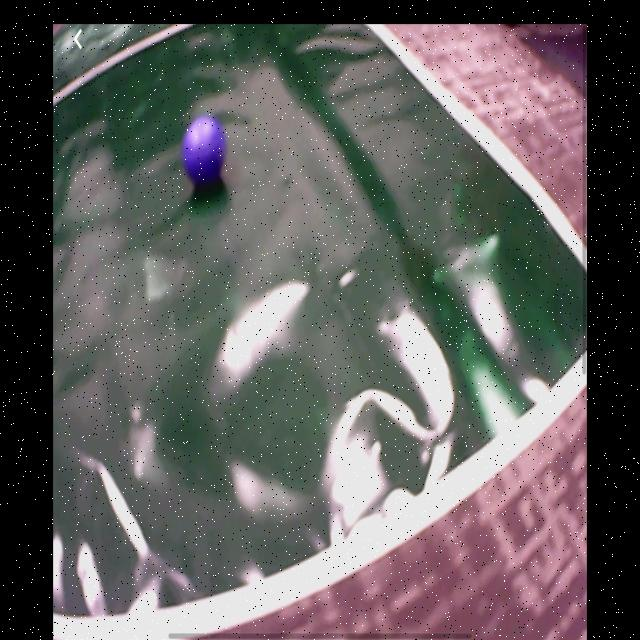ball: (182, 115, 228, 188)
